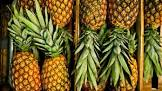Pineapple: (26, 7, 71, 91), (108, 1, 138, 89), (79, 1, 106, 89), (11, 20, 42, 91), (143, 1, 162, 82)
